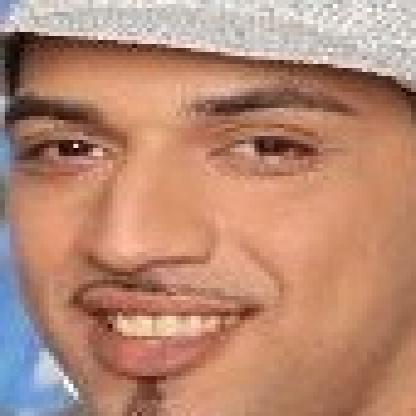male: (5, 0, 411, 412)
